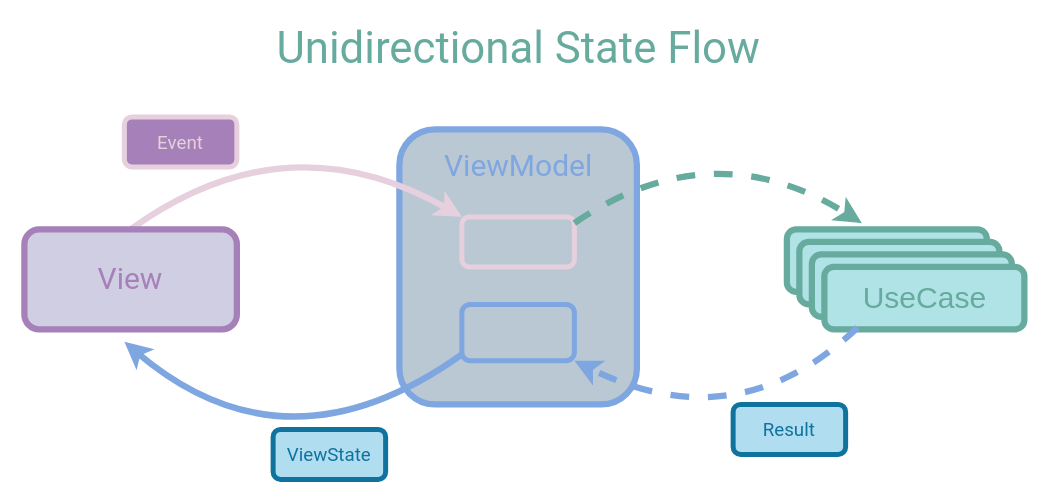
Image size: 1049x503. Some labels were removed from this diagram. Here are the shapes that lost their labels. From the top down, the box of each, then its label:
(459, 214, 576, 269): Process Event
(459, 301, 576, 362): Process Result
